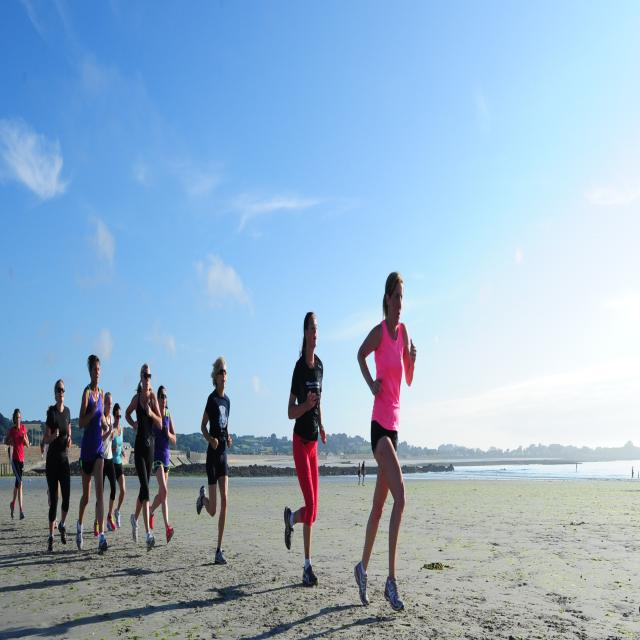body: (353, 270, 418, 612), (283, 311, 328, 587), (195, 354, 232, 566), (124, 363, 163, 553), (76, 354, 108, 556), (44, 378, 72, 553), (147, 384, 176, 545), (93, 391, 117, 538), (4, 408, 30, 520), (105, 401, 126, 533), (40, 405, 60, 529), (631, 465, 640, 480), (362, 459, 366, 486), (357, 462, 361, 487), (41, 453, 44, 462), (576, 462, 577, 472)
